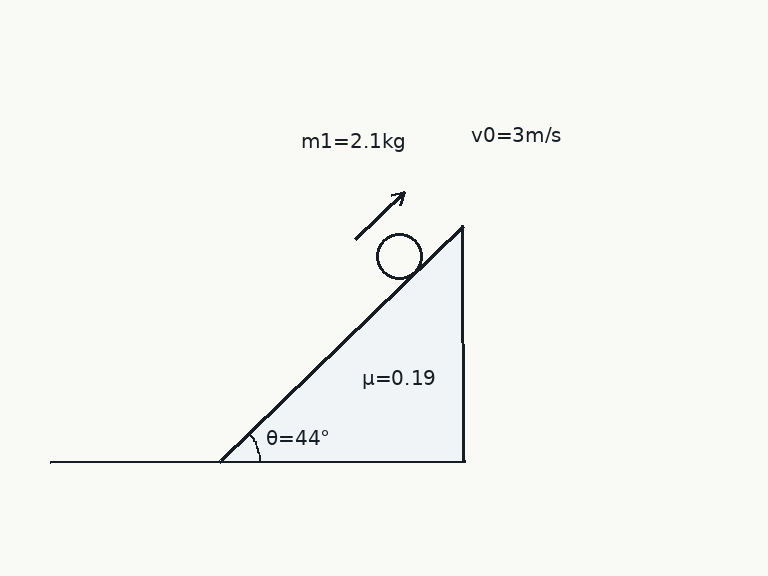ball: (374, 231, 424, 281)
ramp: (218, 224, 465, 463)
